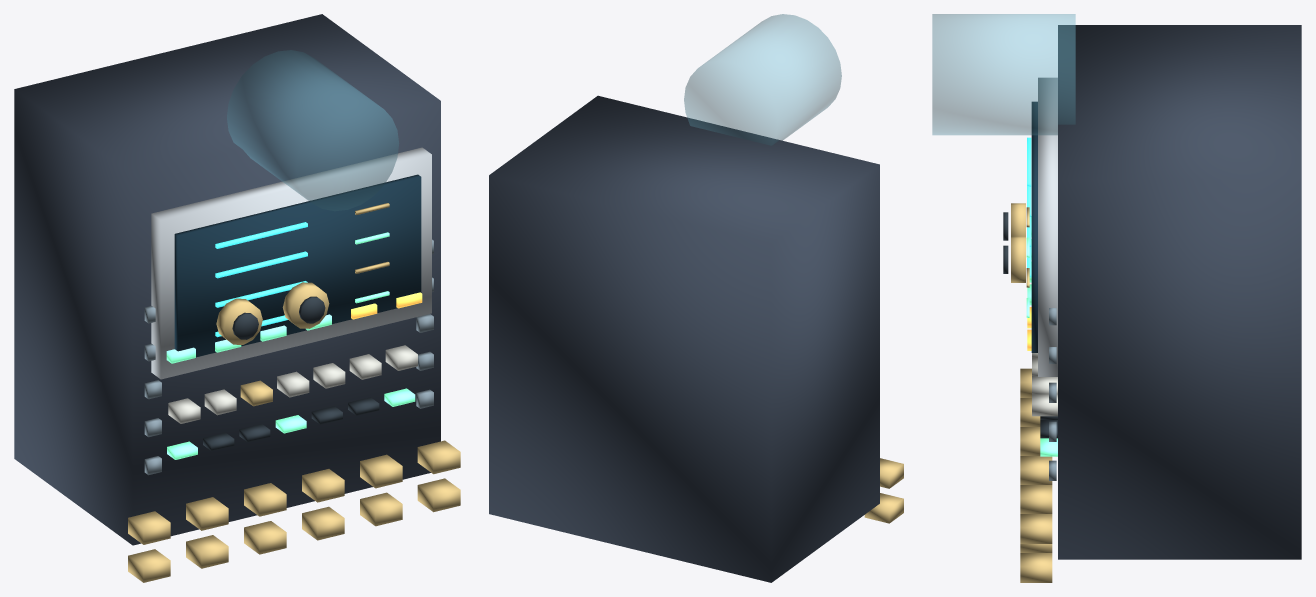
File: 40_L92_BitThermalProbe.glb
3 renders of one model, left to right at view 1: azimuth 30°, elevation 25°; view 2: azimuth 150°, elevation 25°; view 3: azimuth 270°, elevation 25°, orthographic. The views are drawn at different scales.
Visible parts, largest first — view 1: L92_BitThermalProbe, L92_BitThermalProbe_Part_0011, L92_BitThermalProbe_Part_0014, L92_BitThermalProbe_Part_0012, L92_BitThermalProbe_Part_0009, L92_BitThermalProbe_Part_0010; view 2: L92_BitThermalProbe, L92_BitThermalProbe_Part_0011; view 3: L92_BitThermalProbe, L92_BitThermalProbe_Part_0011, L92_BitThermalProbe_Part_0014, L92_BitThermalProbe_Part_0012.
Boxes of the visible parts, x1,y1,x2,y2 form: L92_BitThermalProbe: (14, 14, 460, 582); L92_BitThermalProbe_Part_0011: (227, 50, 398, 210); L92_BitThermalProbe_Part_0014: (282, 282, 329, 328); L92_BitThermalProbe_Part_0012: (216, 298, 262, 344); L92_BitThermalProbe_Part_0009: (166, 314, 331, 363); L92_BitThermalProbe_Part_0010: (351, 292, 422, 319); L92_BitThermalProbe: (489, 95, 903, 582); L92_BitThermalProbe_Part_0011: (684, 14, 841, 145); L92_BitThermalProbe: (1020, 25, 1301, 582); L92_BitThermalProbe_Part_0011: (932, 14, 1075, 134); L92_BitThermalProbe_Part_0014: (1011, 236, 1025, 282); L92_BitThermalProbe_Part_0012: (1011, 203, 1025, 236).
Bounding box in the file's own units: 1.05 × 1.49 × 1.03.
